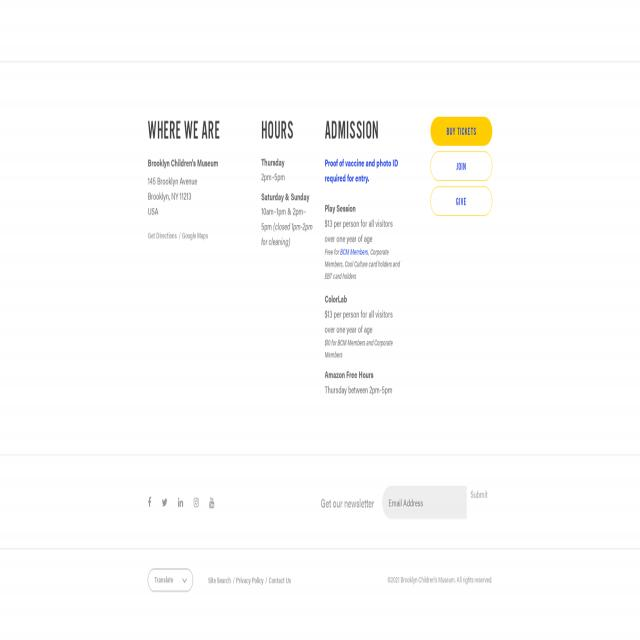button: (430, 116, 492, 146), (430, 186, 492, 215), (430, 152, 492, 180), (206, 492, 218, 517), (190, 493, 202, 516), (158, 491, 169, 514), (175, 491, 185, 515), (145, 491, 155, 514)
field: (382, 486, 466, 519), (148, 570, 193, 591)
